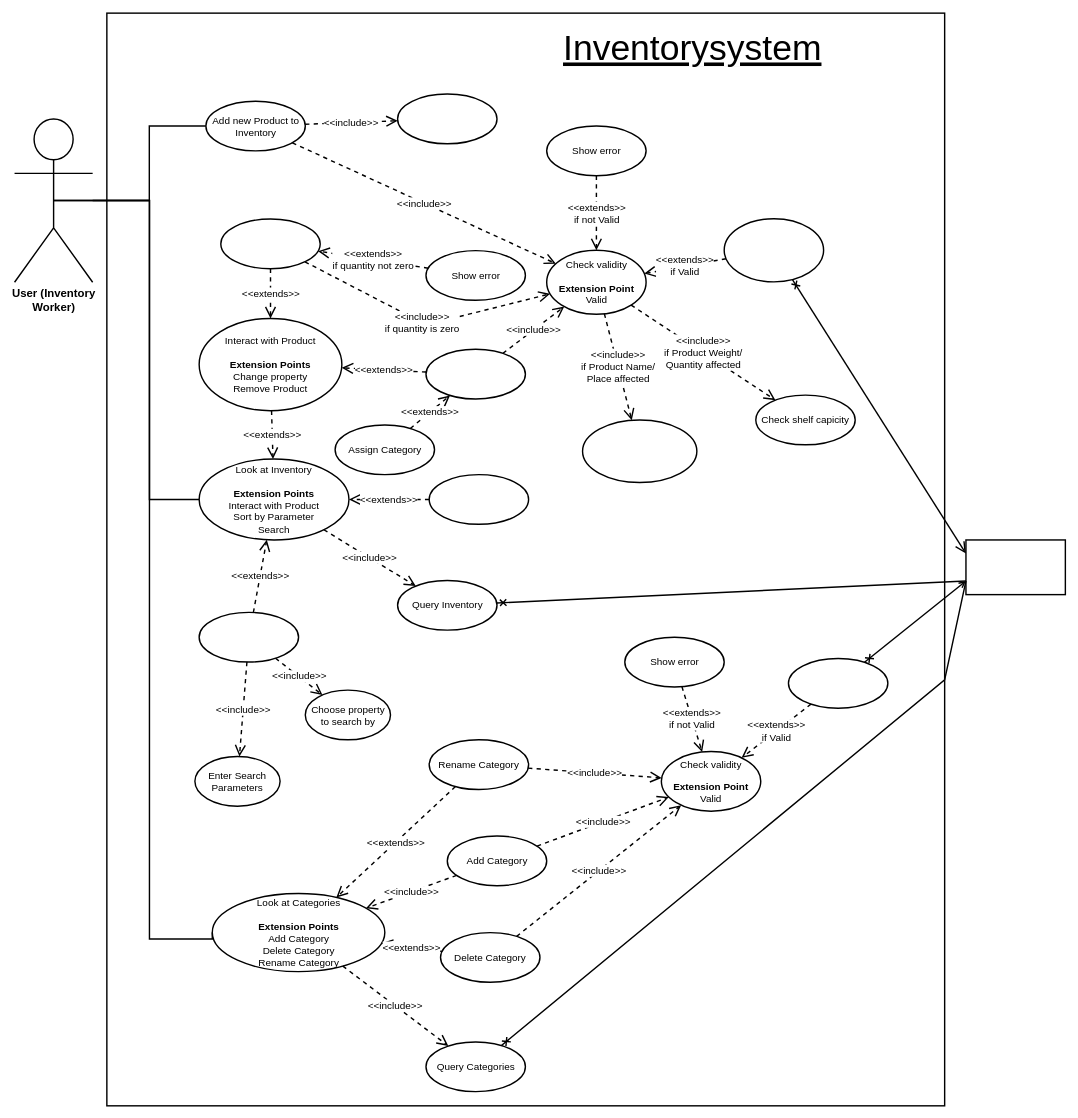
The diagram is 1078 pixels wide and 1118 high, and some of its shapes have lost their labels. Here are the shapes that lost their labels. From the top down, the box of each, then its label:
(397, 93, 497, 144): Set all properties for new Product
(220, 218, 321, 269): Remove Product from Inventory
(723, 218, 824, 282): Save changes to Product
(425, 348, 526, 399): Change Property of Product
(581, 419, 697, 483): Check for uniqueness of Product Name/ Product Place
(428, 474, 529, 525): Sort by Parameter
(965, 539, 1066, 595): Database
(198, 611, 299, 662): Search
(787, 657, 888, 709): Save changes to Categories
